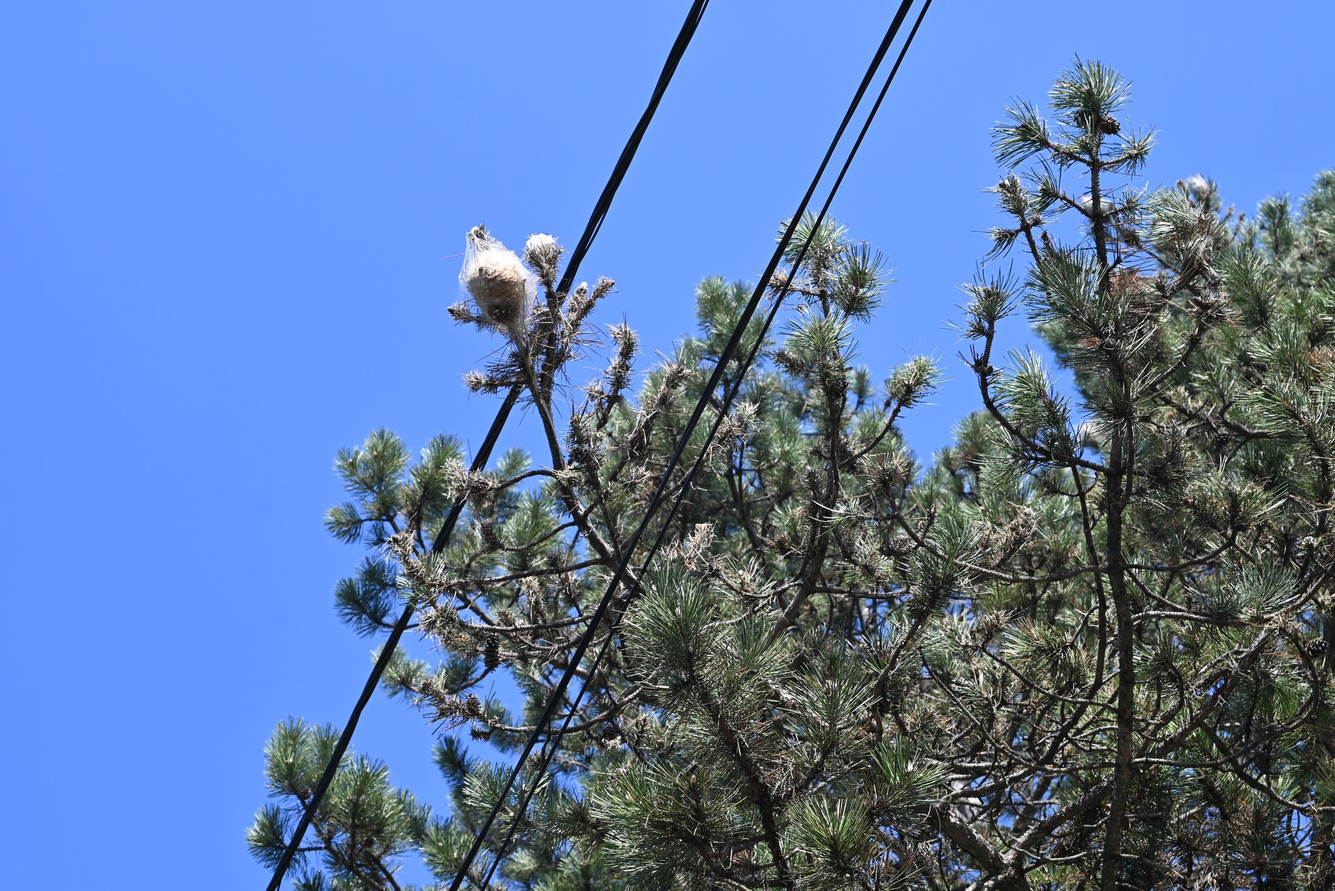thaumatopoea pityocampa jajno gnijezdo: (456, 227, 537, 327), (520, 230, 563, 300), (1079, 193, 1120, 219), (1187, 177, 1213, 200)
